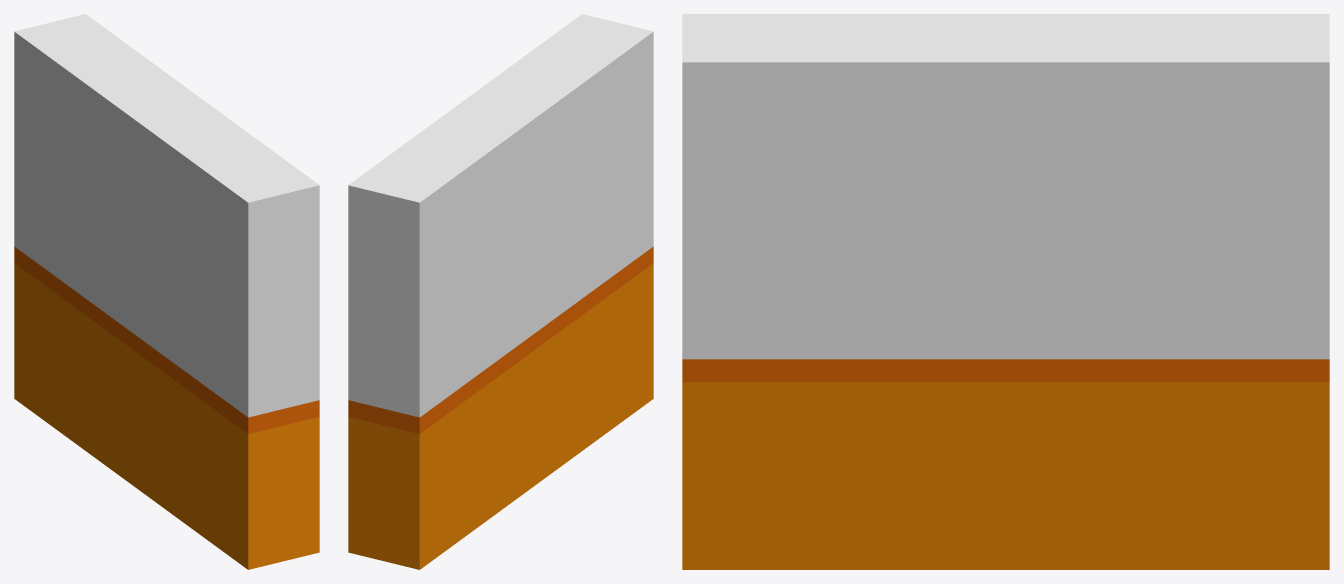
The model's file is Factory_Wall.fbx.
The picture shows the model from 3 angles, left to right: view 1: azimuth 30°, elevation 25°; view 2: azimuth 150°, elevation 25°; view 3: azimuth 270°, elevation 25°; orthographic projection. The views are drawn at different scales.
Parts seen in each view (by area): view 1: Factory_Wall; view 2: Factory_Wall; view 3: Factory_Wall.
Boxes of the visible parts, <box> form: Factory_Wall: <box>14,14,319,569</box>; Factory_Wall: <box>348,14,653,569</box>; Factory_Wall: <box>682,14,1329,569</box>.
Size of the model in its own units: 135 by 660 by 762.
